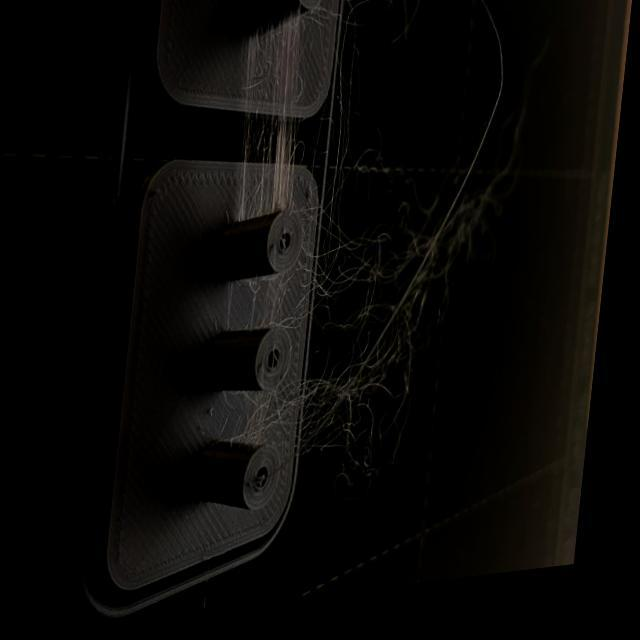stringing: (236, 44, 306, 227), (318, 85, 359, 238), (330, 0, 407, 13)
